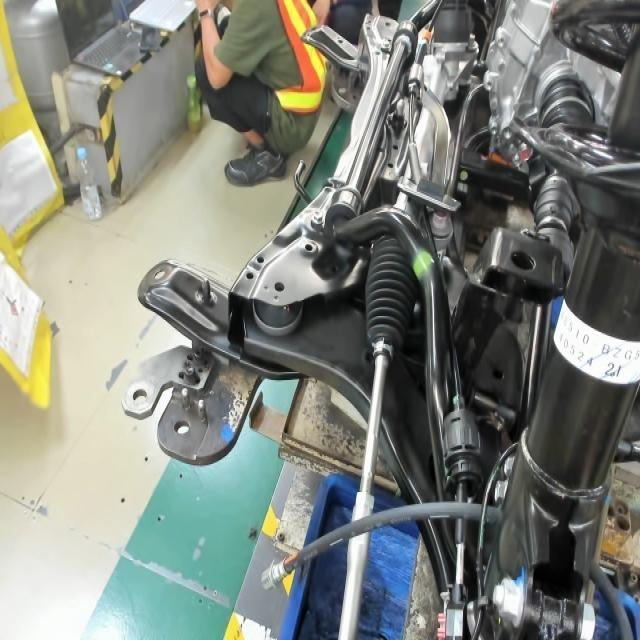Absorber RH-21: (600, 354, 627, 385)
Bar Stabilizer-HJ: (408, 244, 437, 280)
